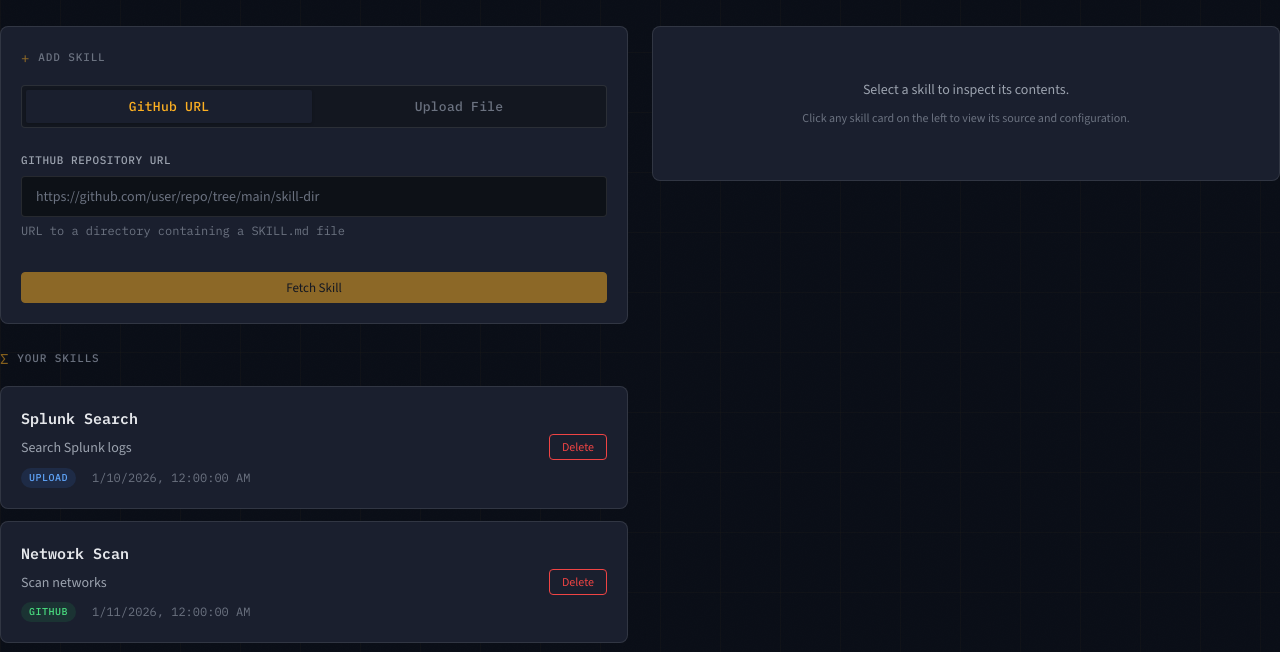
Test: Skills page › adds tool to local state after GitHub import with tool
The image size is (1280, 652).
Expected: the heading "Splunk Search" is shown, x1=21 y1=409 x2=138 y2=428
Switch to GitHub tab
Click the button "GitHub URL".
click(169, 106)  # box x1=26 y1=90 x2=312 y2=123
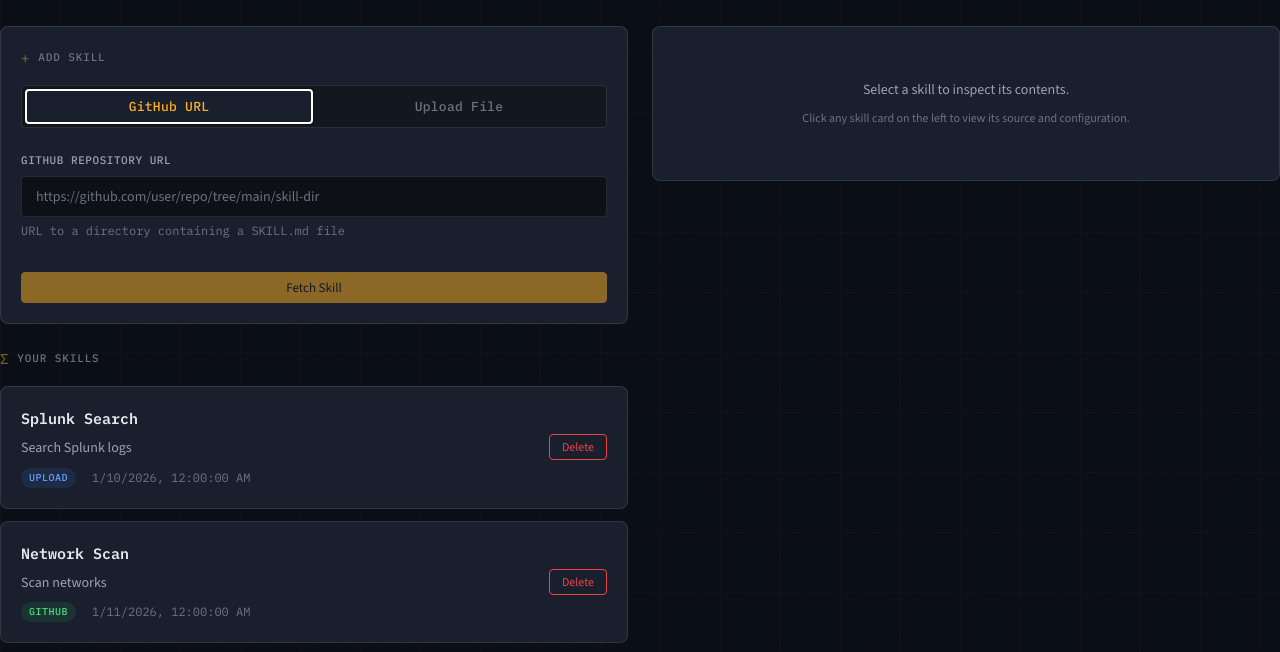
Type URL and submit
Type "https://github.com/org/repo/tree/main/skills/test" into the field labelled "GitHub Repository URL".
click(314, 196); type("https://github.com/org/repo/tree/main/skills/test")  # box x1=21 y1=176 x2=607 y2=217
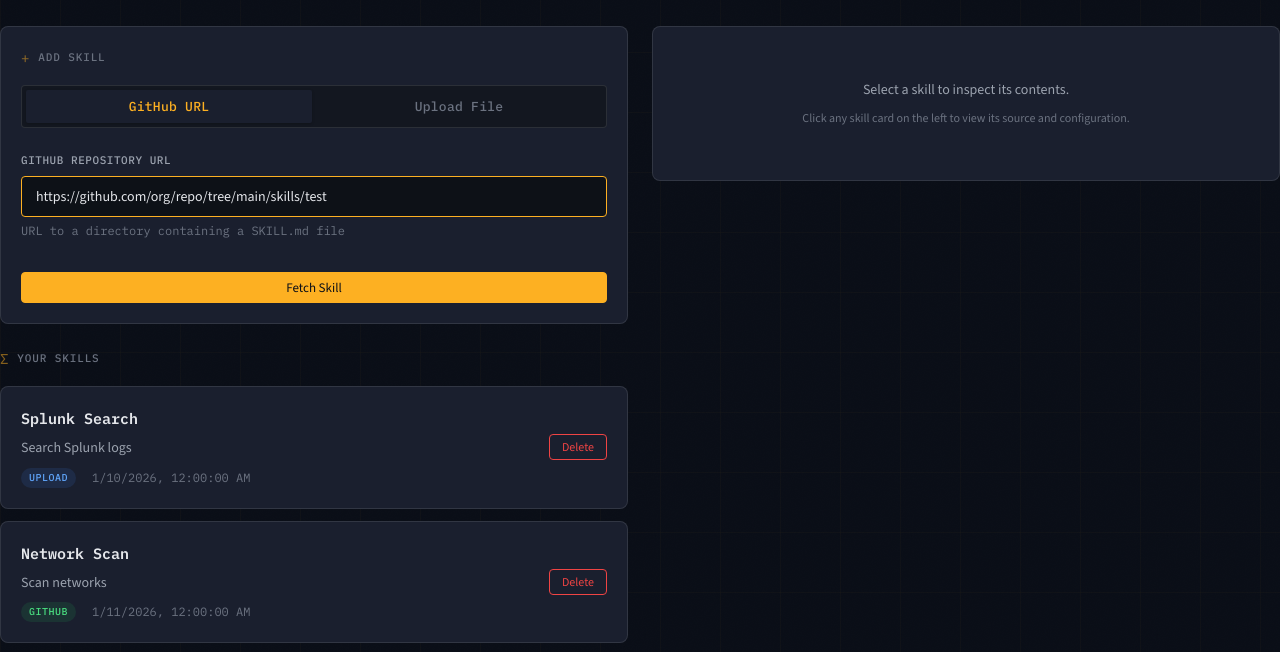
Click the button "Fetch Skill".
click(314, 287)  # box x1=21 y1=272 x2=607 y2=303
(page scrolled)
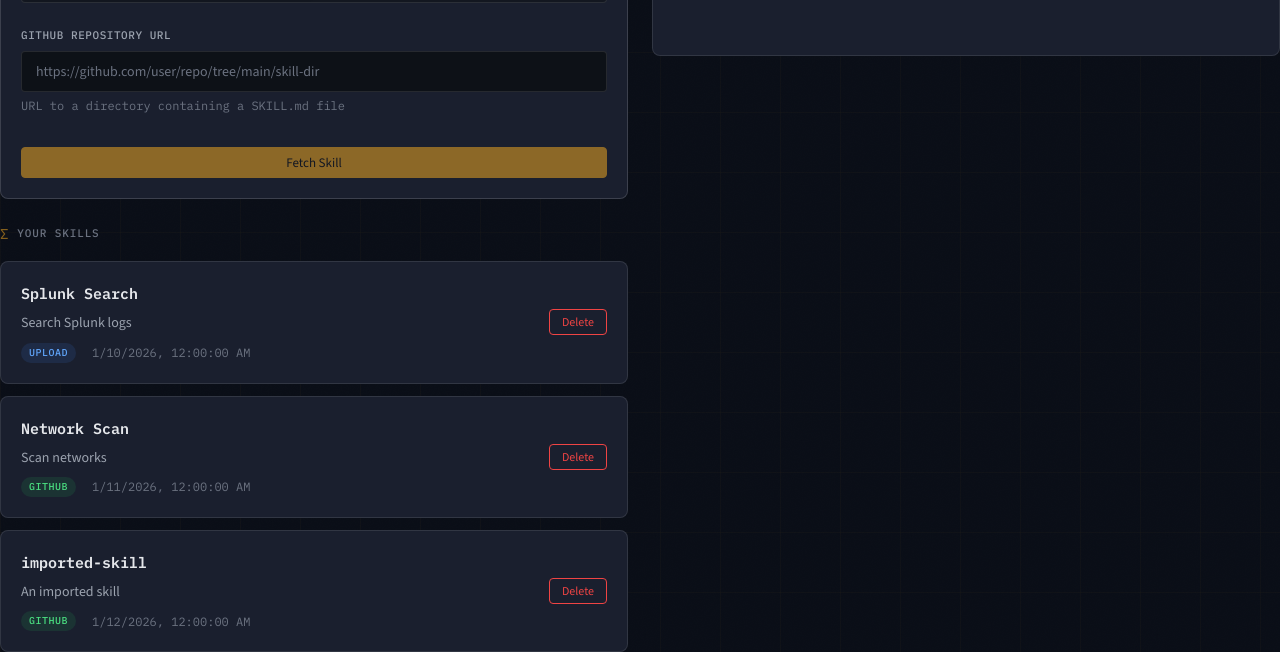
Now the heading "imported-skill" is shown
Click the heading "imported-skill".
click(84, 562)  # box x1=21 y1=553 x2=147 y2=572
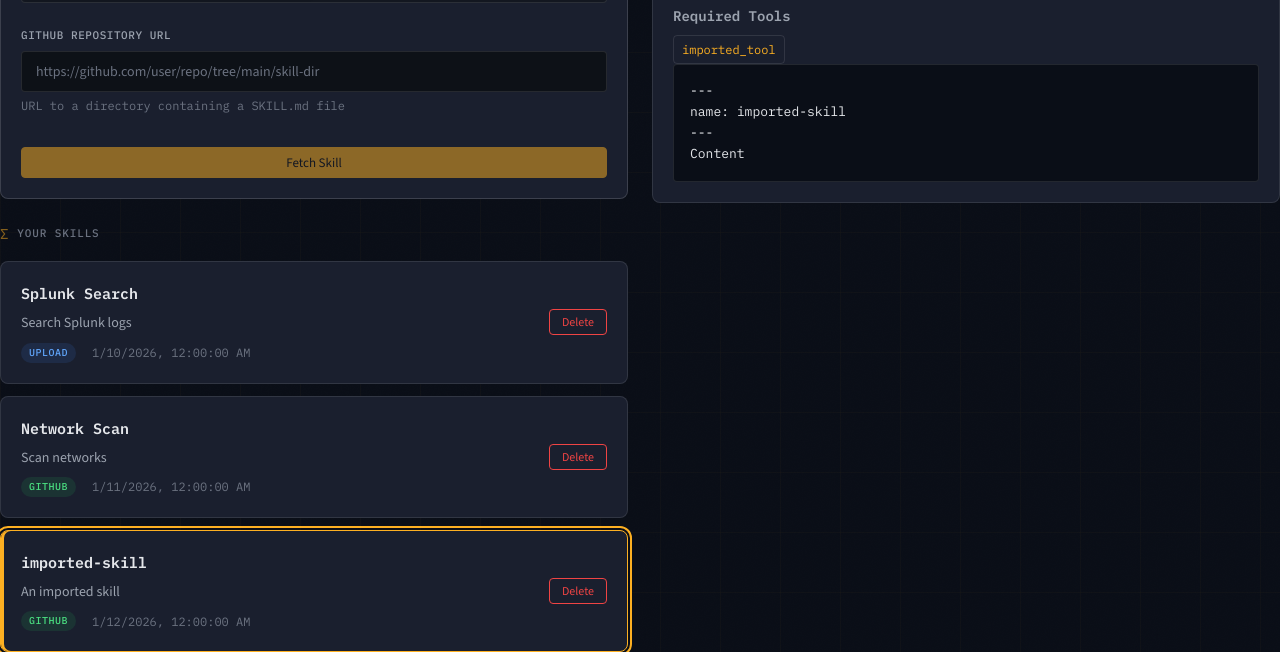
Now the text "imported_tool" is shown, box x1=673 y1=35 x2=785 y2=64
